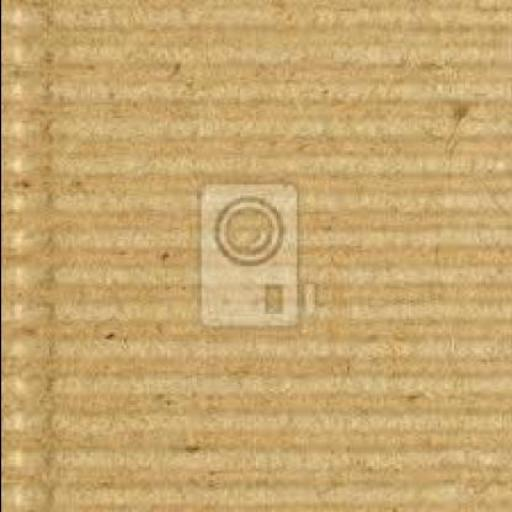cardboard: (1, 2, 511, 512)
